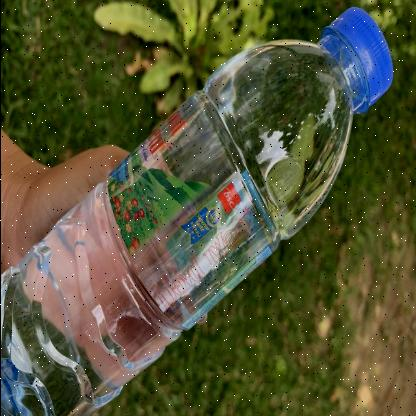Plastic Bottle: (0, 6, 392, 416)
